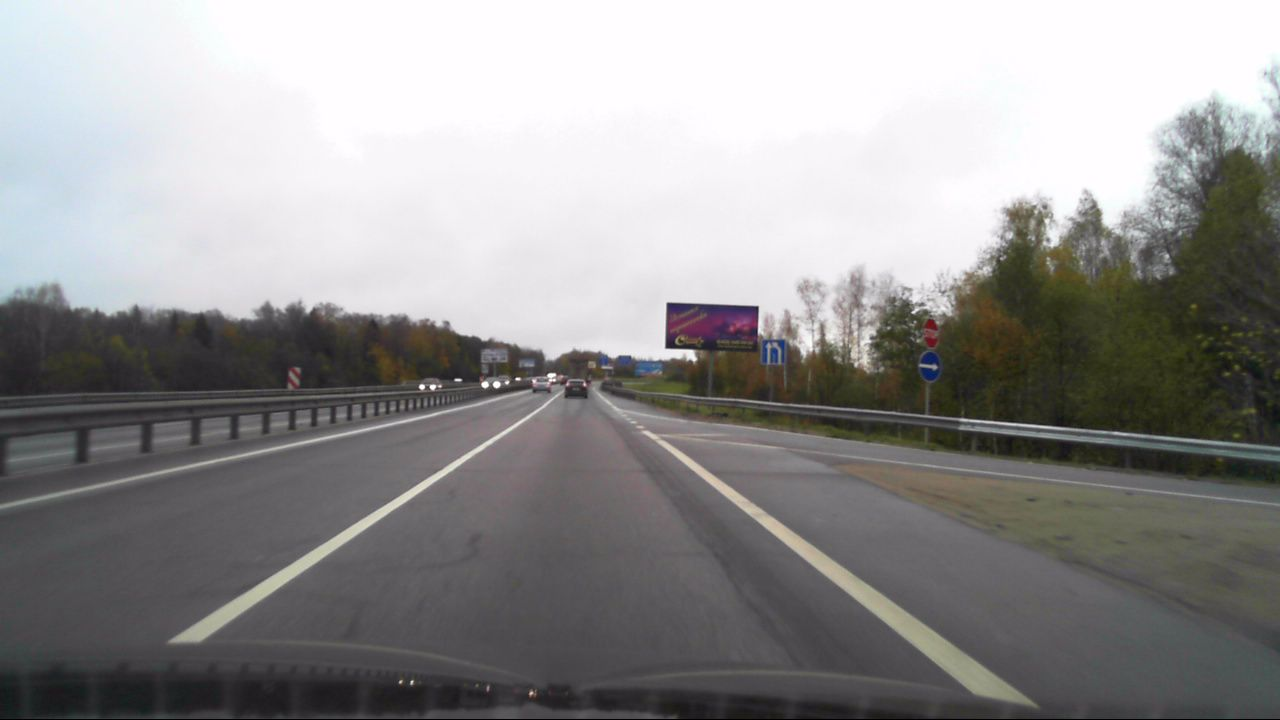Turn Right: (918, 351, 941, 381)
